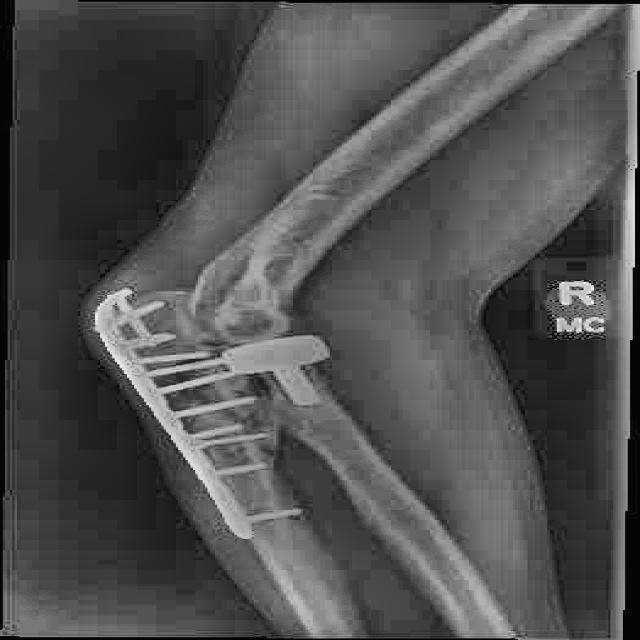elbow positive: (145, 259, 247, 329)
